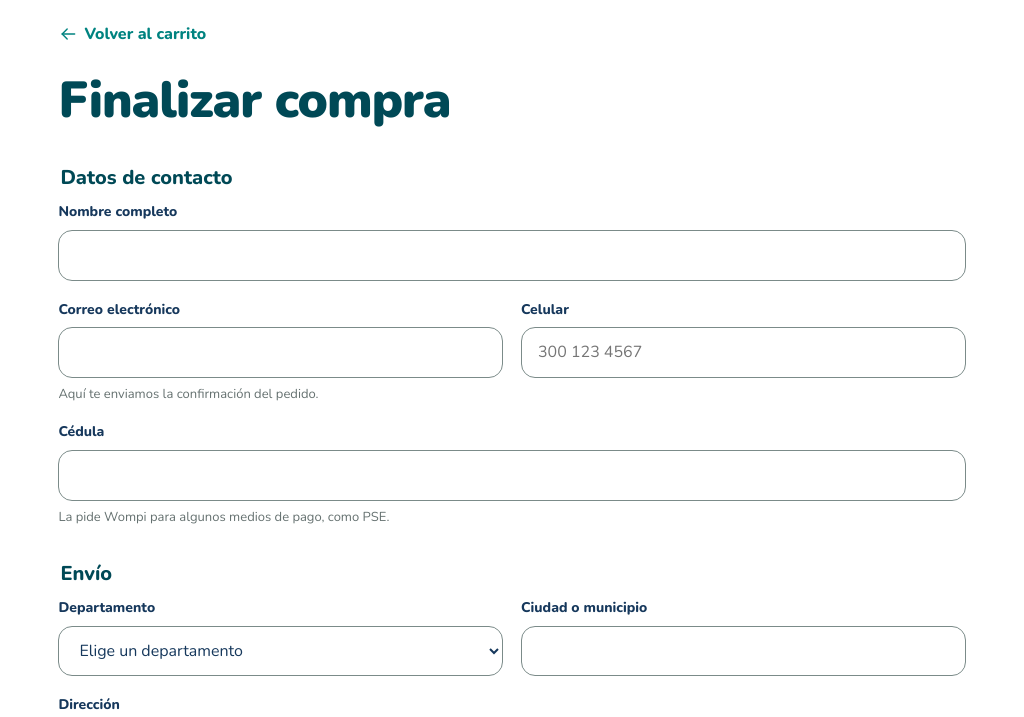
Test: CheckoutComponent › validates the form in Spanish before creating the order
In the field labelled "Nombre completo": (512, 255) x1=58 y1=230 x2=966 y2=281, type "Ana Pérez"
In the field labelled "Correo electrónico": (281, 353) x1=58 y1=327 x2=503 y2=378, type "ana@example.com"
In the field labelled "Celular": (743, 353) x1=521 y1=327 x2=966 y2=378, type "12345"
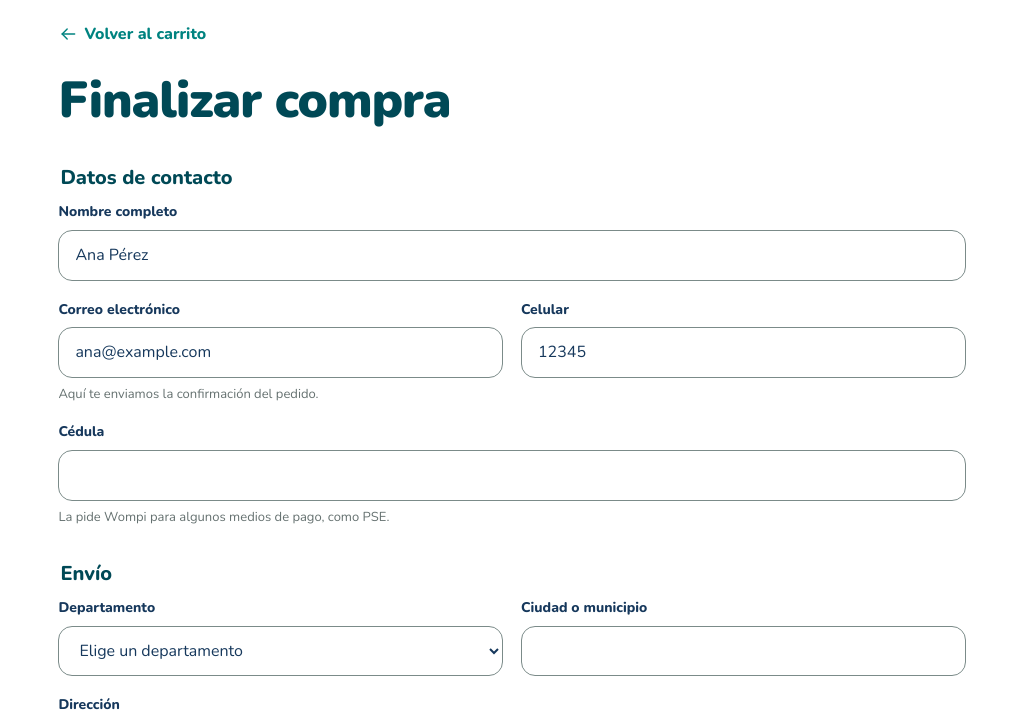
In the field labelled "Cédula": (512, 475) x1=58 y1=450 x2=966 y2=501, type "abc"
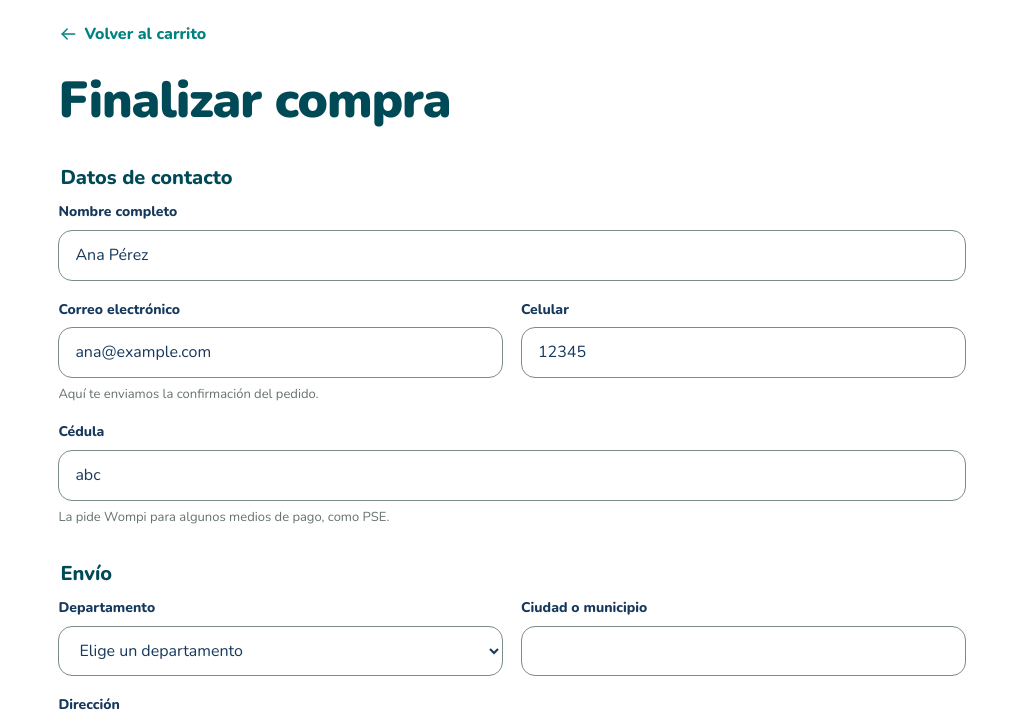
Select "Antioquia" in the dropdown labelled "Departamento": (281, 651) x1=58 y1=626 x2=503 y2=676
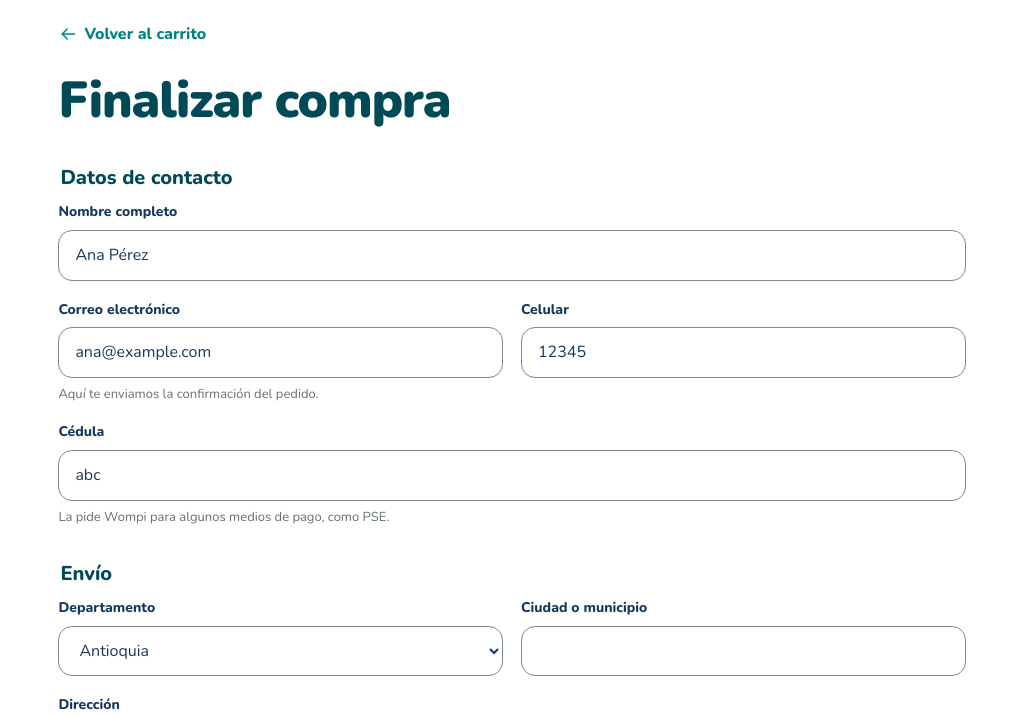
In the field labelled "Ciudad o municipio": (743, 651) x1=521 y1=626 x2=966 y2=676, type "Medellín"
(page scrolled)
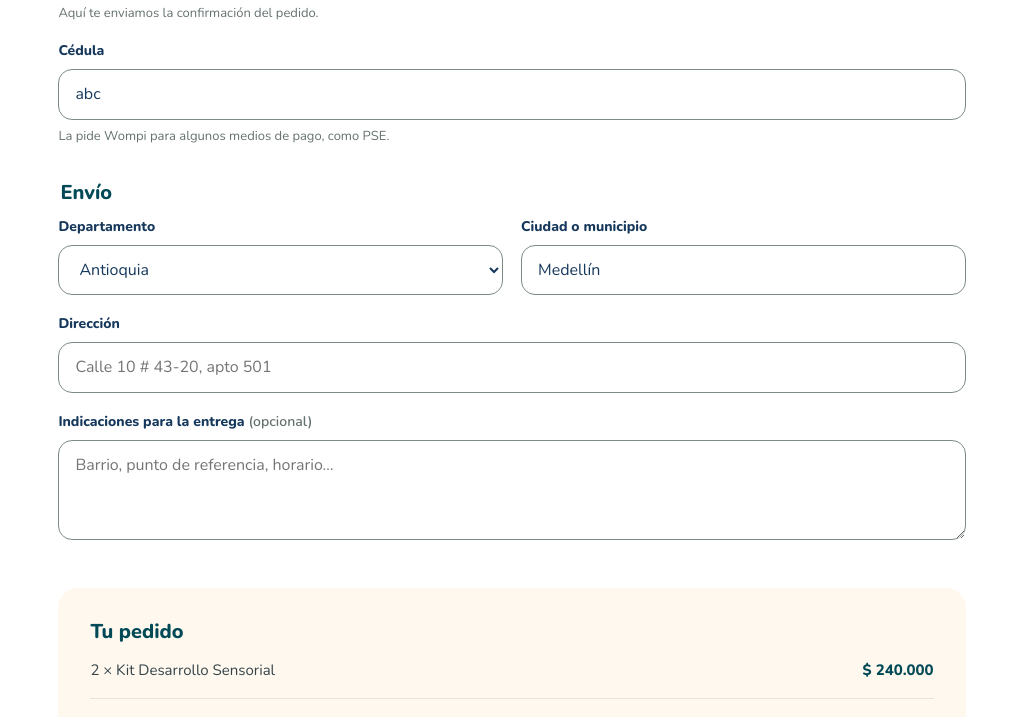
In the field labelled "Dirección": (512, 368) x1=58 y1=342 x2=966 y2=393, type "Calle 10 # 43-20"
(page scrolled)
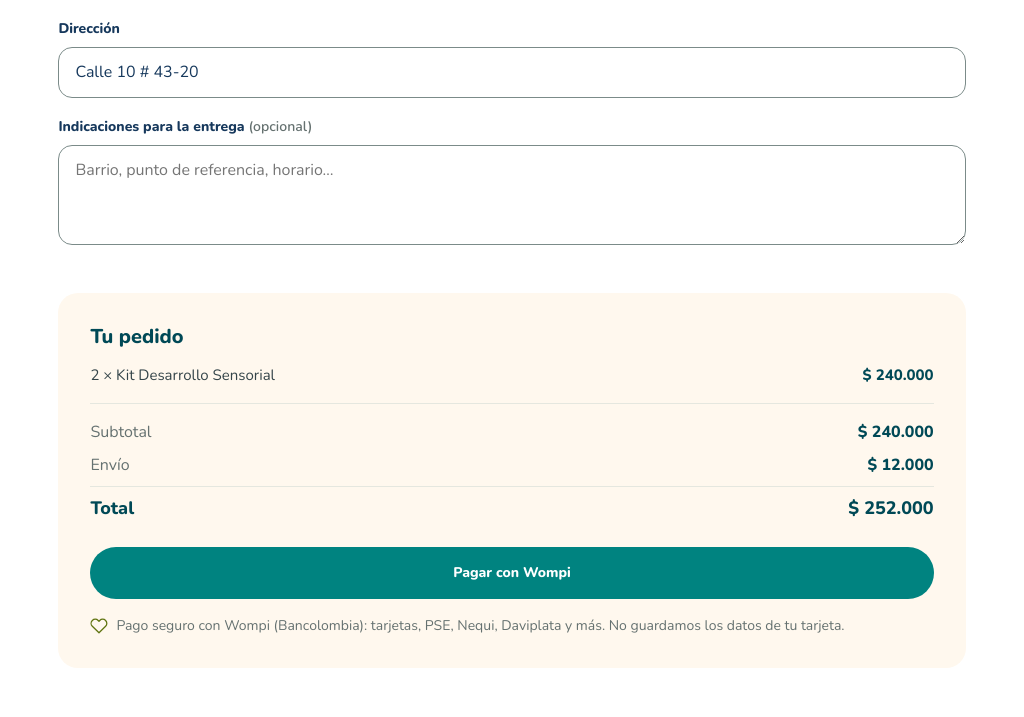
Click the button "Pagar con Wompi": (512, 573) x1=90 y1=547 x2=934 y2=599
(page scrolled)
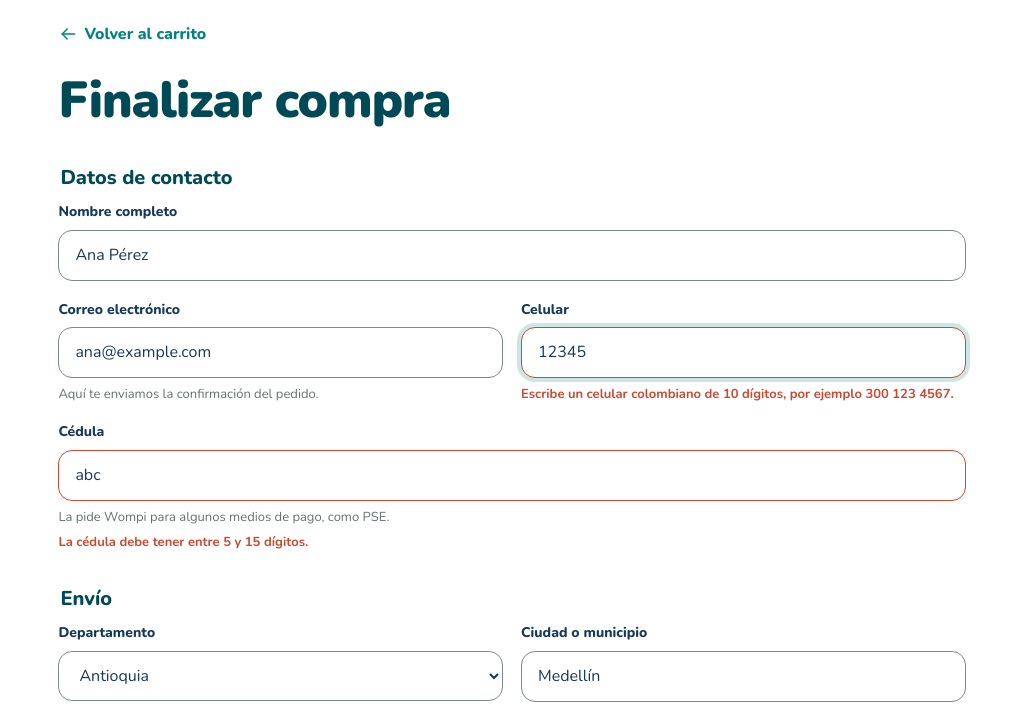
Check: the text with id "checkout-phone-error" reads "Escribe un celular colombiano de 10 dígitos, por ejemplo 300 123 4567.", box x1=521 y1=385 x2=954 y2=403
Check: the text with id "checkout-document-error" reads "La cédula debe tener entre 5 y 15 dígitos.", box x1=58 y1=533 x2=308 y2=551
